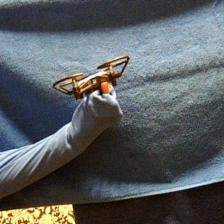drone: (52, 54, 130, 98)
